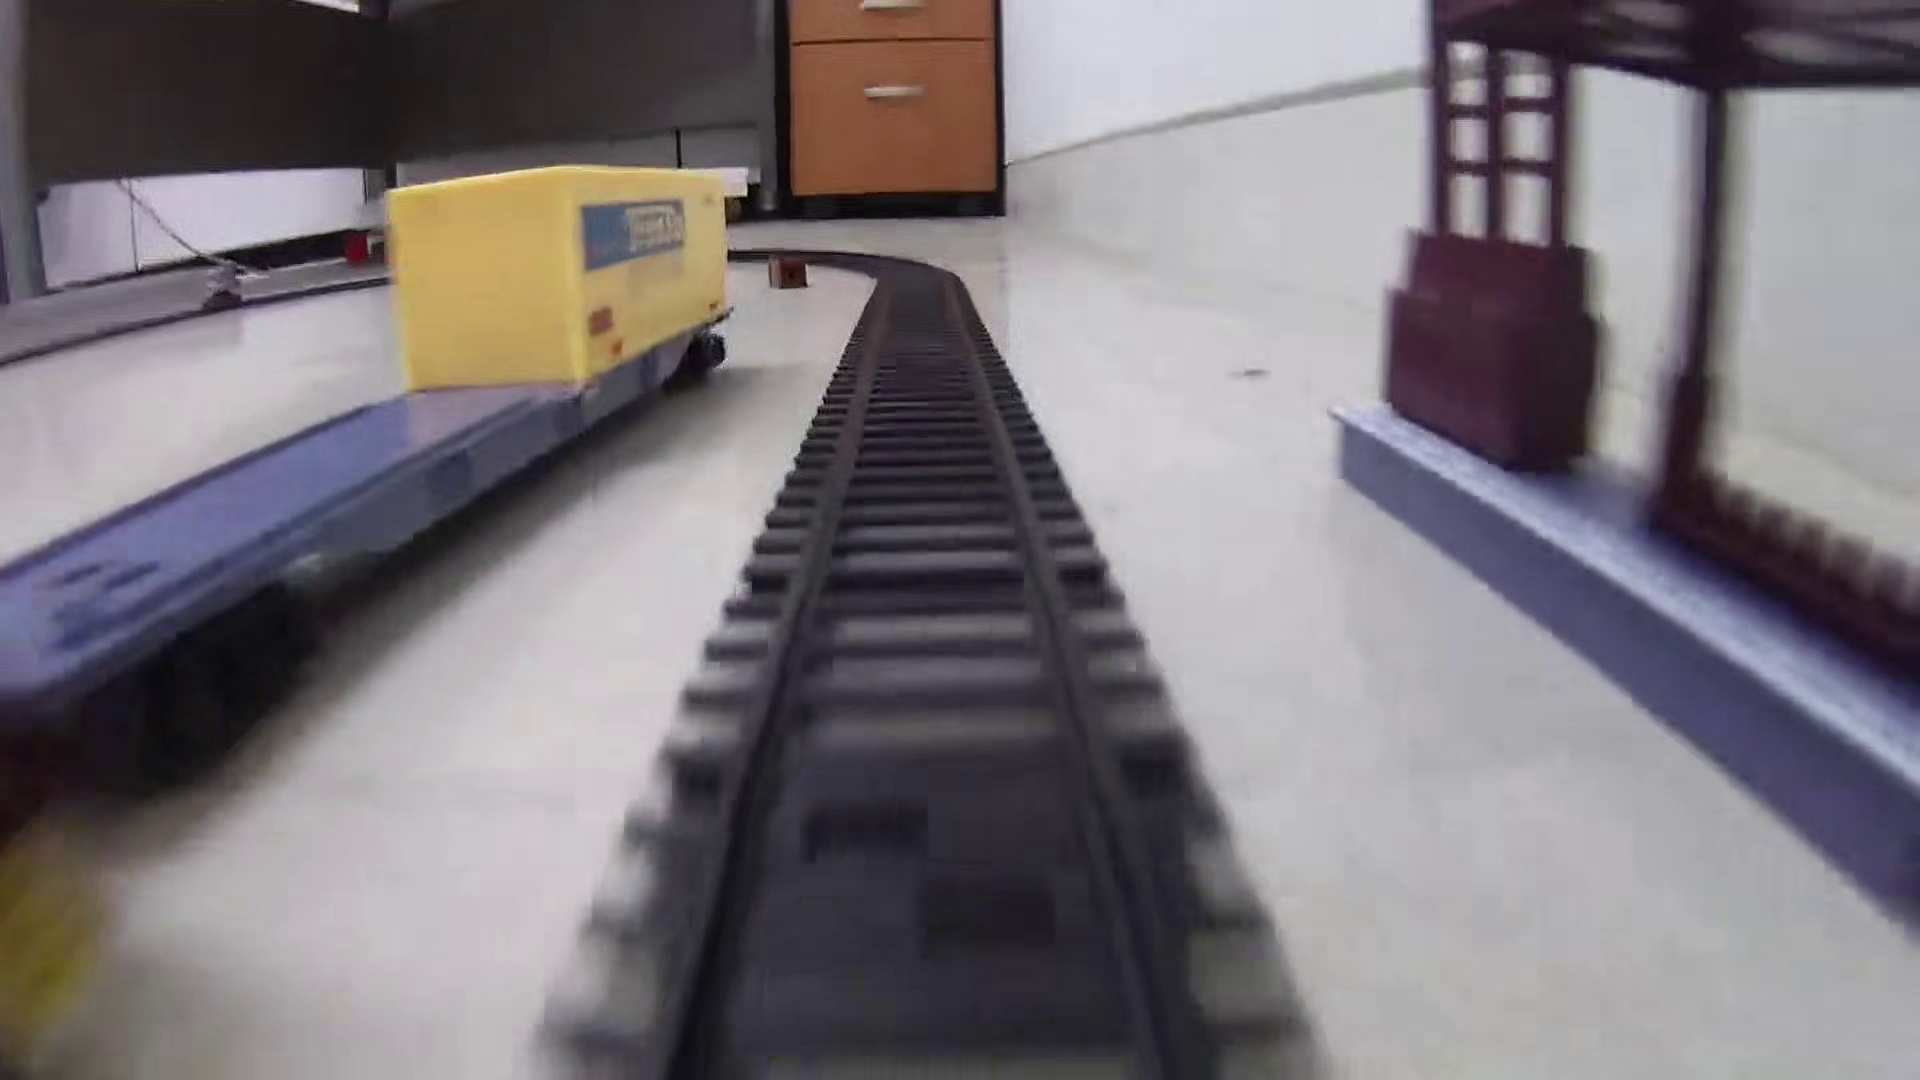box: (765, 253, 810, 292)
